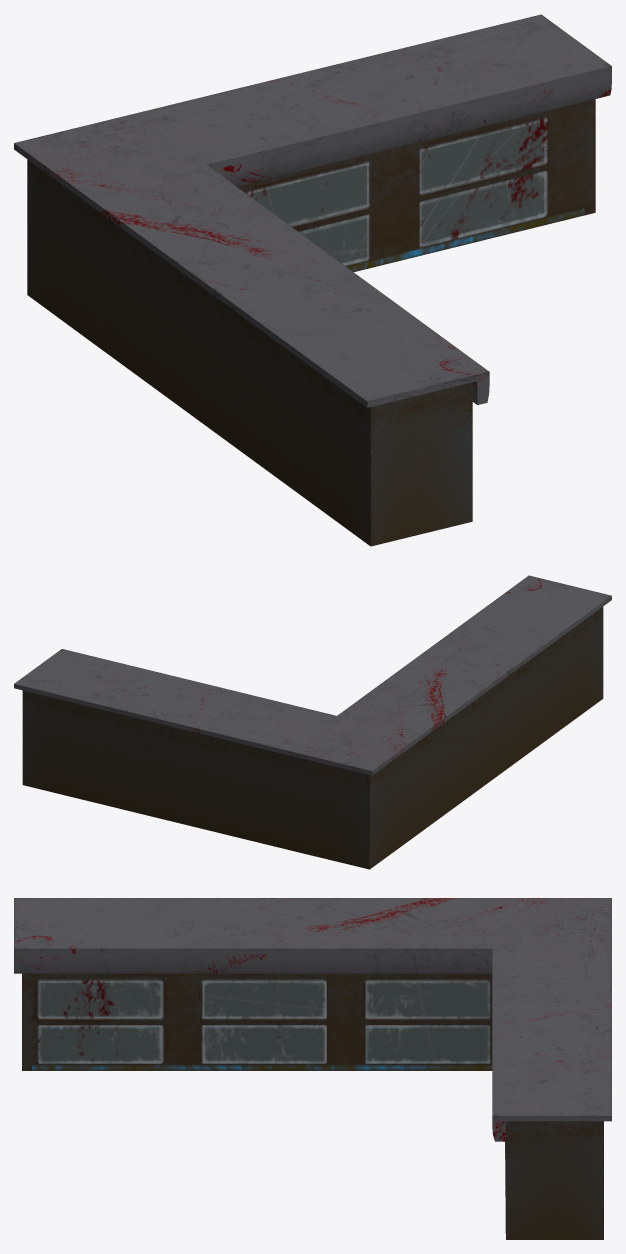
The model's file is l_table.fbx.
3 renders of one model, top to bottom at view 1: azimuth 30°, elevation 25°; view 2: azimuth 150°, elevation 25°; view 3: azimuth 270°, elevation 25°, orthographic. The views are drawn at different scales.
Visible parts, largest first — view 1: Tisch; view 2: Tisch; view 3: Tisch.
Part boxes in pixels (x1,y1,x2,y2): Tisch: [14, 14, 611, 546]; Tisch: [14, 575, 611, 869]; Tisch: [14, 898, 611, 1239].
Size of the model in its own units: 314 by 85.6 by 364.
Materials: 1 (1 with a texture image).
